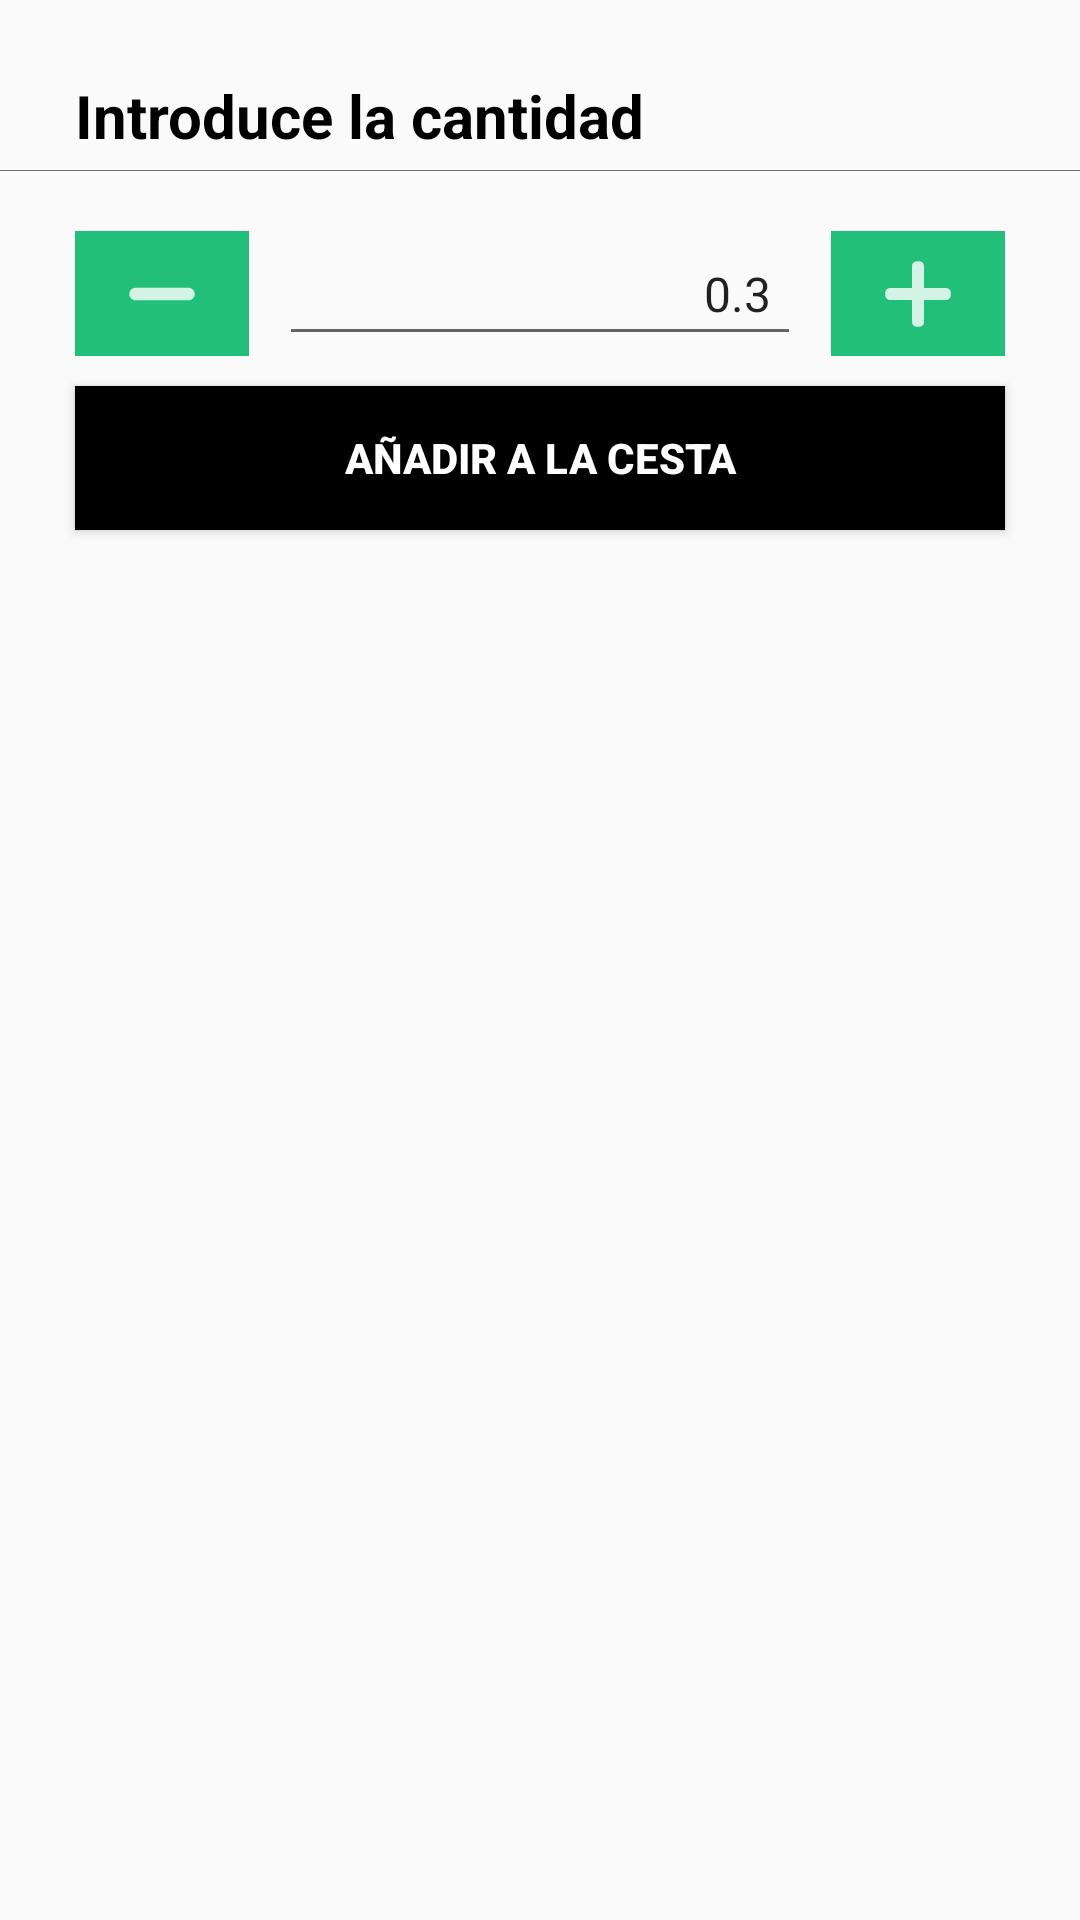

Where icons sit on this 1080w x 1920h app screen, as {"x1": x1, "y1": y1, "x2": x2, "y2": y2}:
minus: {"x1": 75, "y1": 231, "x2": 249, "y2": 356}
plus: {"x1": 831, "y1": 231, "x2": 1005, "y2": 356}
